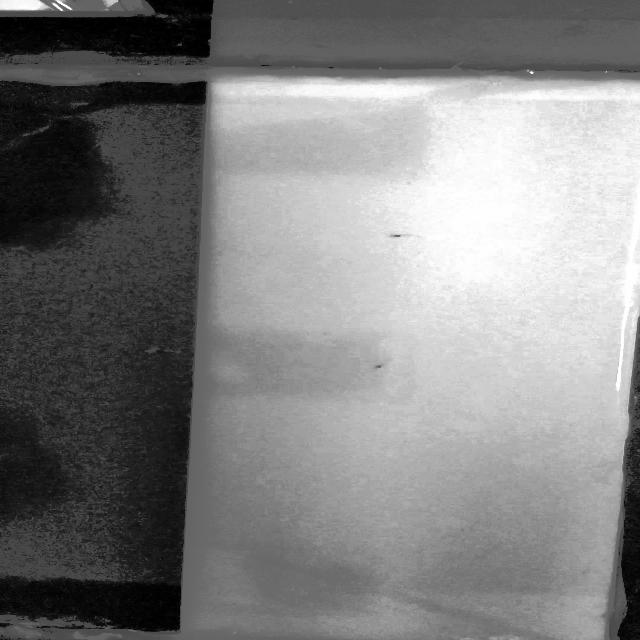shrimp: (379, 230, 422, 240), (364, 361, 392, 375)
